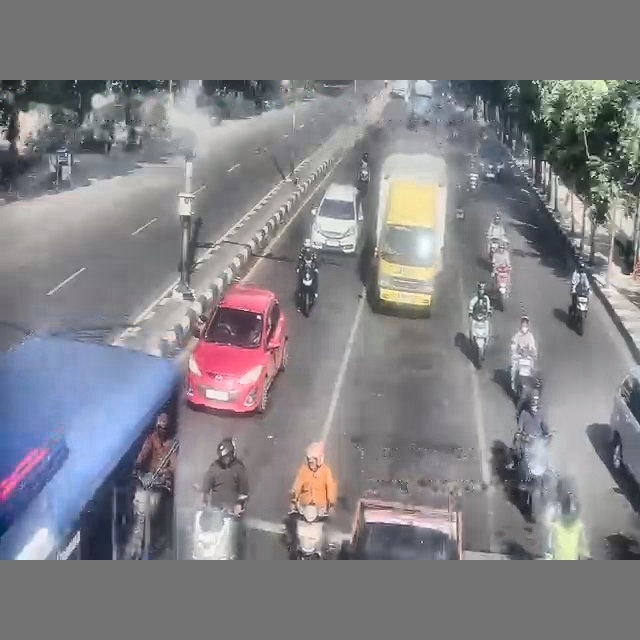Bis: (0, 336, 182, 559)
Mobil: (186, 284, 288, 413), (343, 495, 462, 560), (311, 183, 363, 254), (609, 365, 639, 480), (390, 80, 408, 98)
Motor: (125, 439, 179, 559), (514, 432, 554, 521), (191, 504, 243, 560), (289, 504, 327, 559), (512, 350, 536, 401), (296, 258, 317, 316), (471, 314, 489, 368), (568, 288, 588, 335), (494, 264, 510, 311), (357, 165, 369, 193), (488, 237, 499, 263)
Truk: (373, 153, 446, 314)
